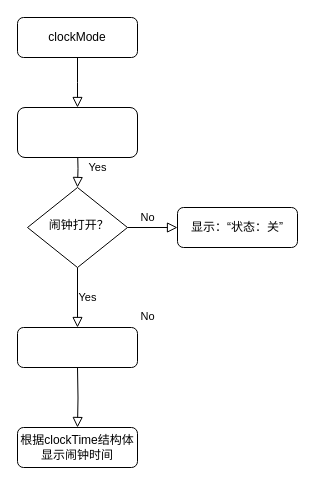
Some shapes in this 315 by 485 pixel diagram are drawn without their labels. Here are the shapes that lost their labels. From the top down, the centre of each, then its label:
the point at 77,132: 根据selectSong的值展示当前闹钟的音乐
the point at 77,347: 显示：“状态：开”
